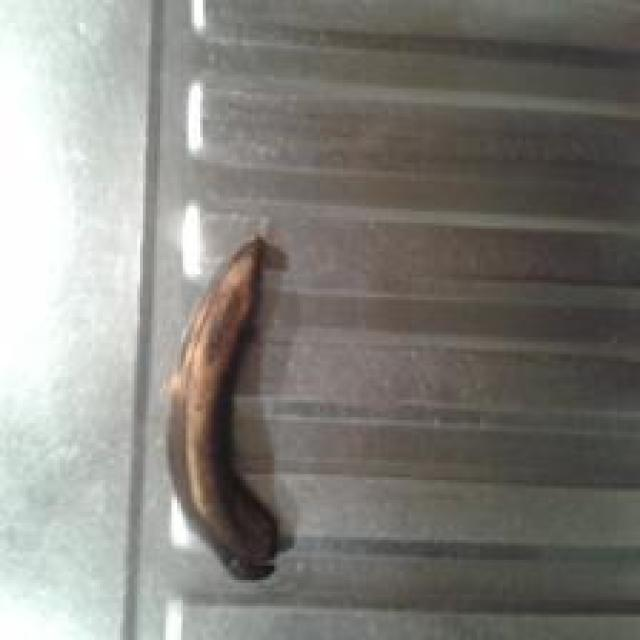Rotten_Banana: (158, 209, 328, 562)
